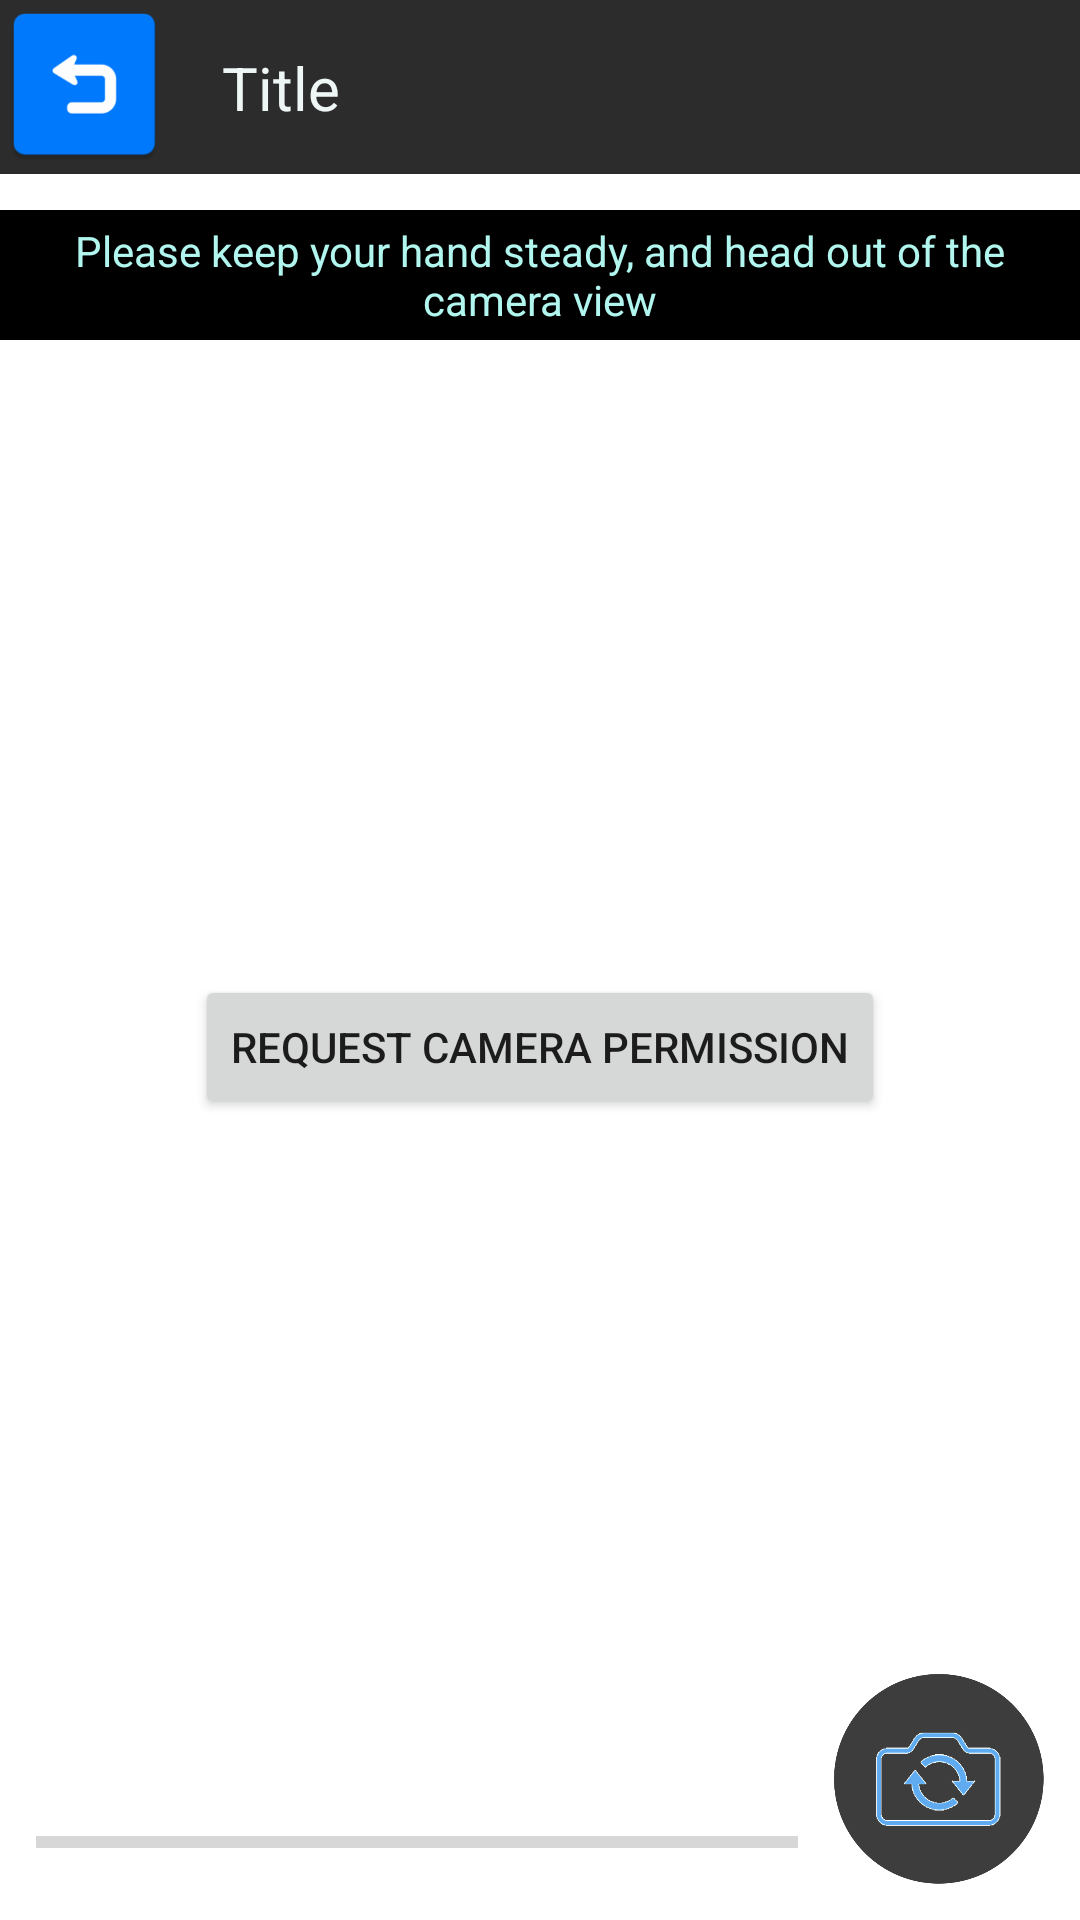

Screen size 1080 x 1920. Icon name, then its box in pixels as BBox(x1, y1, x2, y2):
back: BBox(13, 13, 155, 155)
switch camera: BBox(834, 1674, 1044, 1884)
